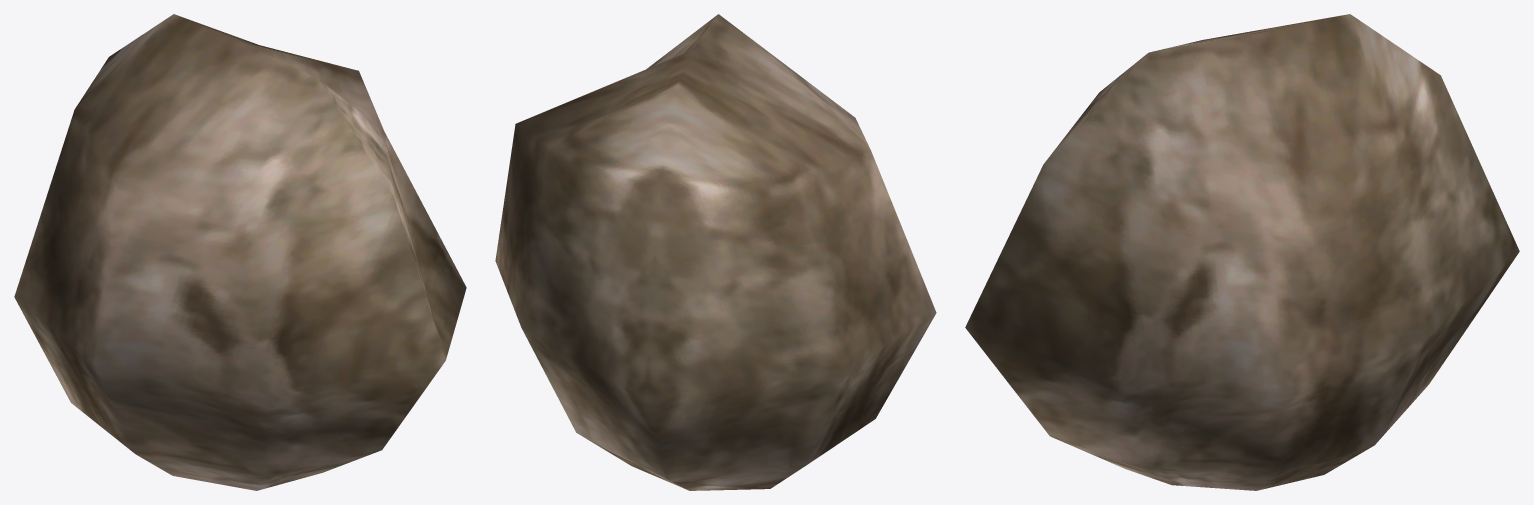
Rendered from OVERHILL_A_01_ROCK201.fbx.
3 renders of one model, left to right at view 1: azimuth 30°, elevation 25°; view 2: azimuth 150°, elevation 25°; view 3: azimuth 270°, elevation 25°, orthographic. The views are drawn at different scales.
Visible parts, largest first — view 1: OVERHILL_A_01_ROCK201; view 2: OVERHILL_A_01_ROCK201; view 3: OVERHILL_A_01_ROCK201.
Boxes of the visible parts, left/top/right/bottom form: OVERHILL_A_01_ROCK201: left=14, top=14, right=466, bottom=490; OVERHILL_A_01_ROCK201: left=495, top=14, right=936, bottom=490; OVERHILL_A_01_ROCK201: left=965, top=14, right=1519, bottom=490.
Bounding box in the file's own units: 9989 × 10173 × 11875.
Materials: 1 (1 with a texture image).
